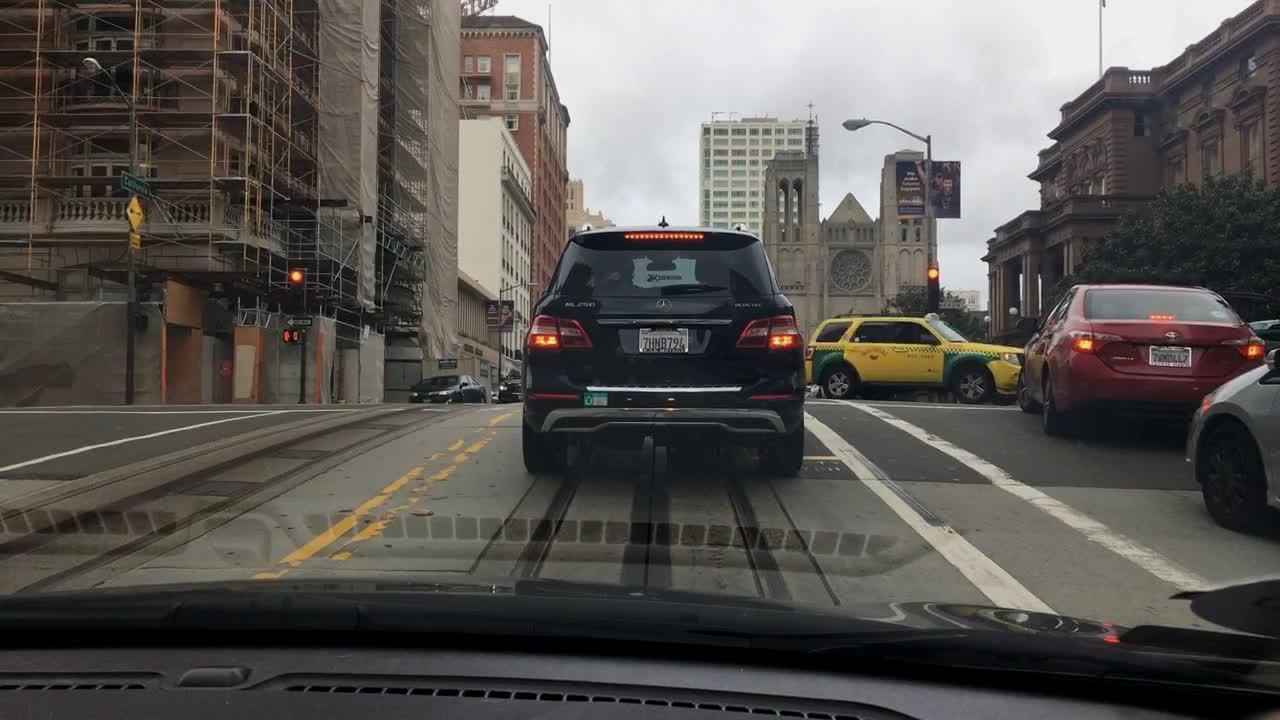Mercedes: (651, 295, 675, 313)
Toyota: (1159, 326, 1186, 348)
